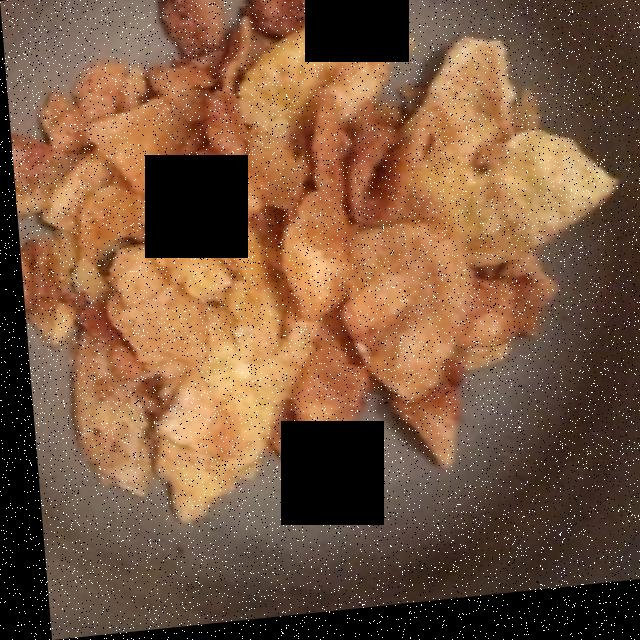crisps: (23, 0, 600, 514)
